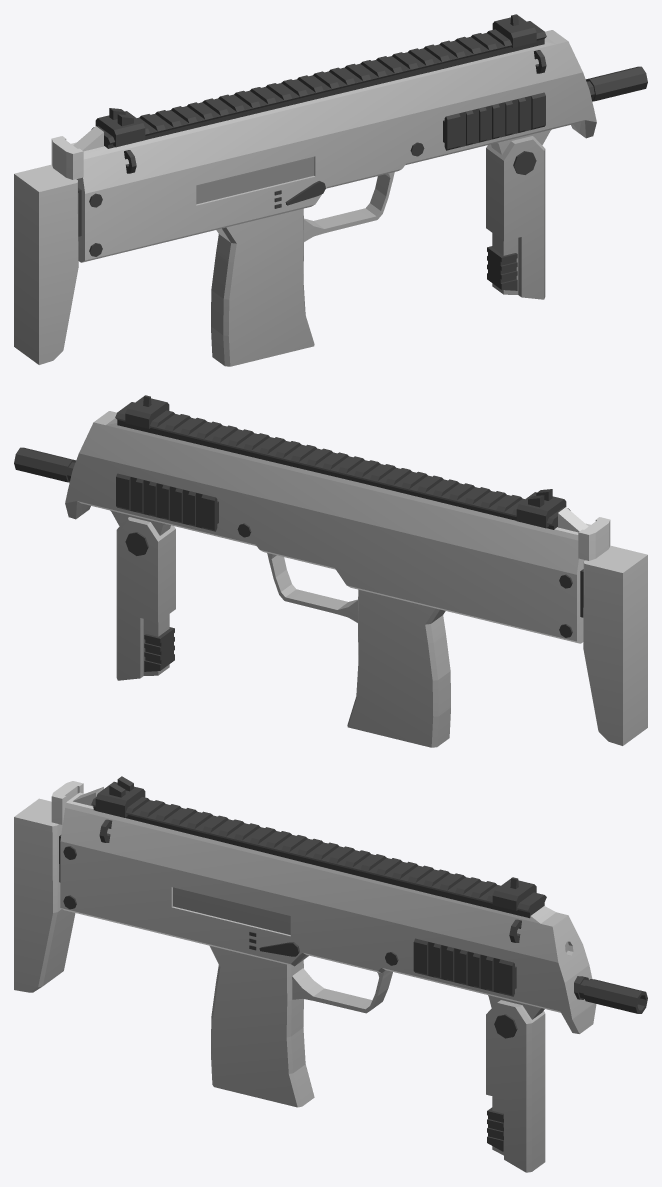
Rendered from SMG3_02.fbx.
3 renders of one model, top to bottom at view 1: azimuth 30°, elevation 25°; view 2: azimuth 150°, elevation 25°; view 3: azimuth 330°, elevation 25°, orthographic.
Visible parts, largest first — view 1: SMG3_02; view 2: SMG3_02; view 3: SMG3_02.
Part boxes in pixels (x1,y1,x2,y2): SMG3_02: (14,14,647,366); SMG3_02: (14,395,647,747); SMG3_02: (14,776,647,1172).
Bounding box in the file's own units: 0.4641 × 0.204 × 0.044.
